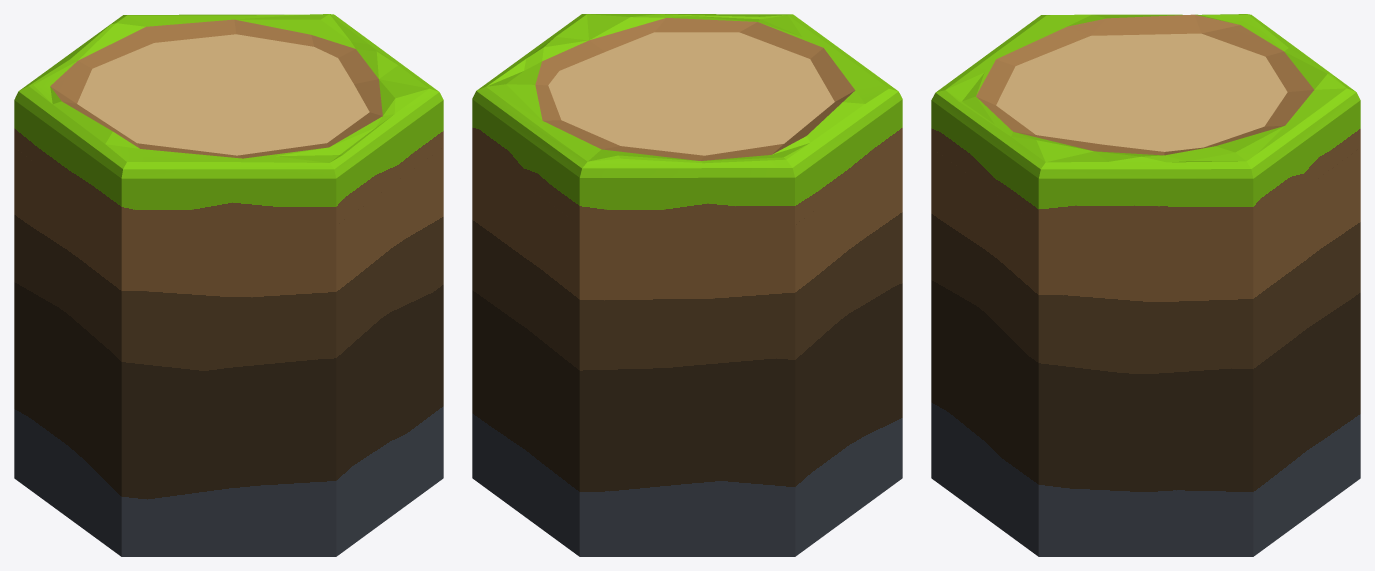
The model's file is HexTilePath_Center_v2.glb.
The picture shows the model from 3 angles, left to right: view 1: azimuth 30°, elevation 25°; view 2: azimuth 150°, elevation 25°; view 3: azimuth 270°, elevation 25°; orthographic projection.
Visible parts, largest first — view 1: SM_Tile_Hex_Colunm.005; view 2: SM_Tile_Hex_Colunm.005; view 3: SM_Tile_Hex_Colunm.005.
Boxes of the visible parts, box(x1,y1,x2,y2) form: SM_Tile_Hex_Colunm.005: box(14, 14, 443, 556); SM_Tile_Hex_Colunm.005: box(472, 14, 902, 556); SM_Tile_Hex_Colunm.005: box(931, 14, 1360, 556).
Size of the model in its own units: 1.73 by 2.02 by 2.
Materials: 1 (1 with a texture image).
